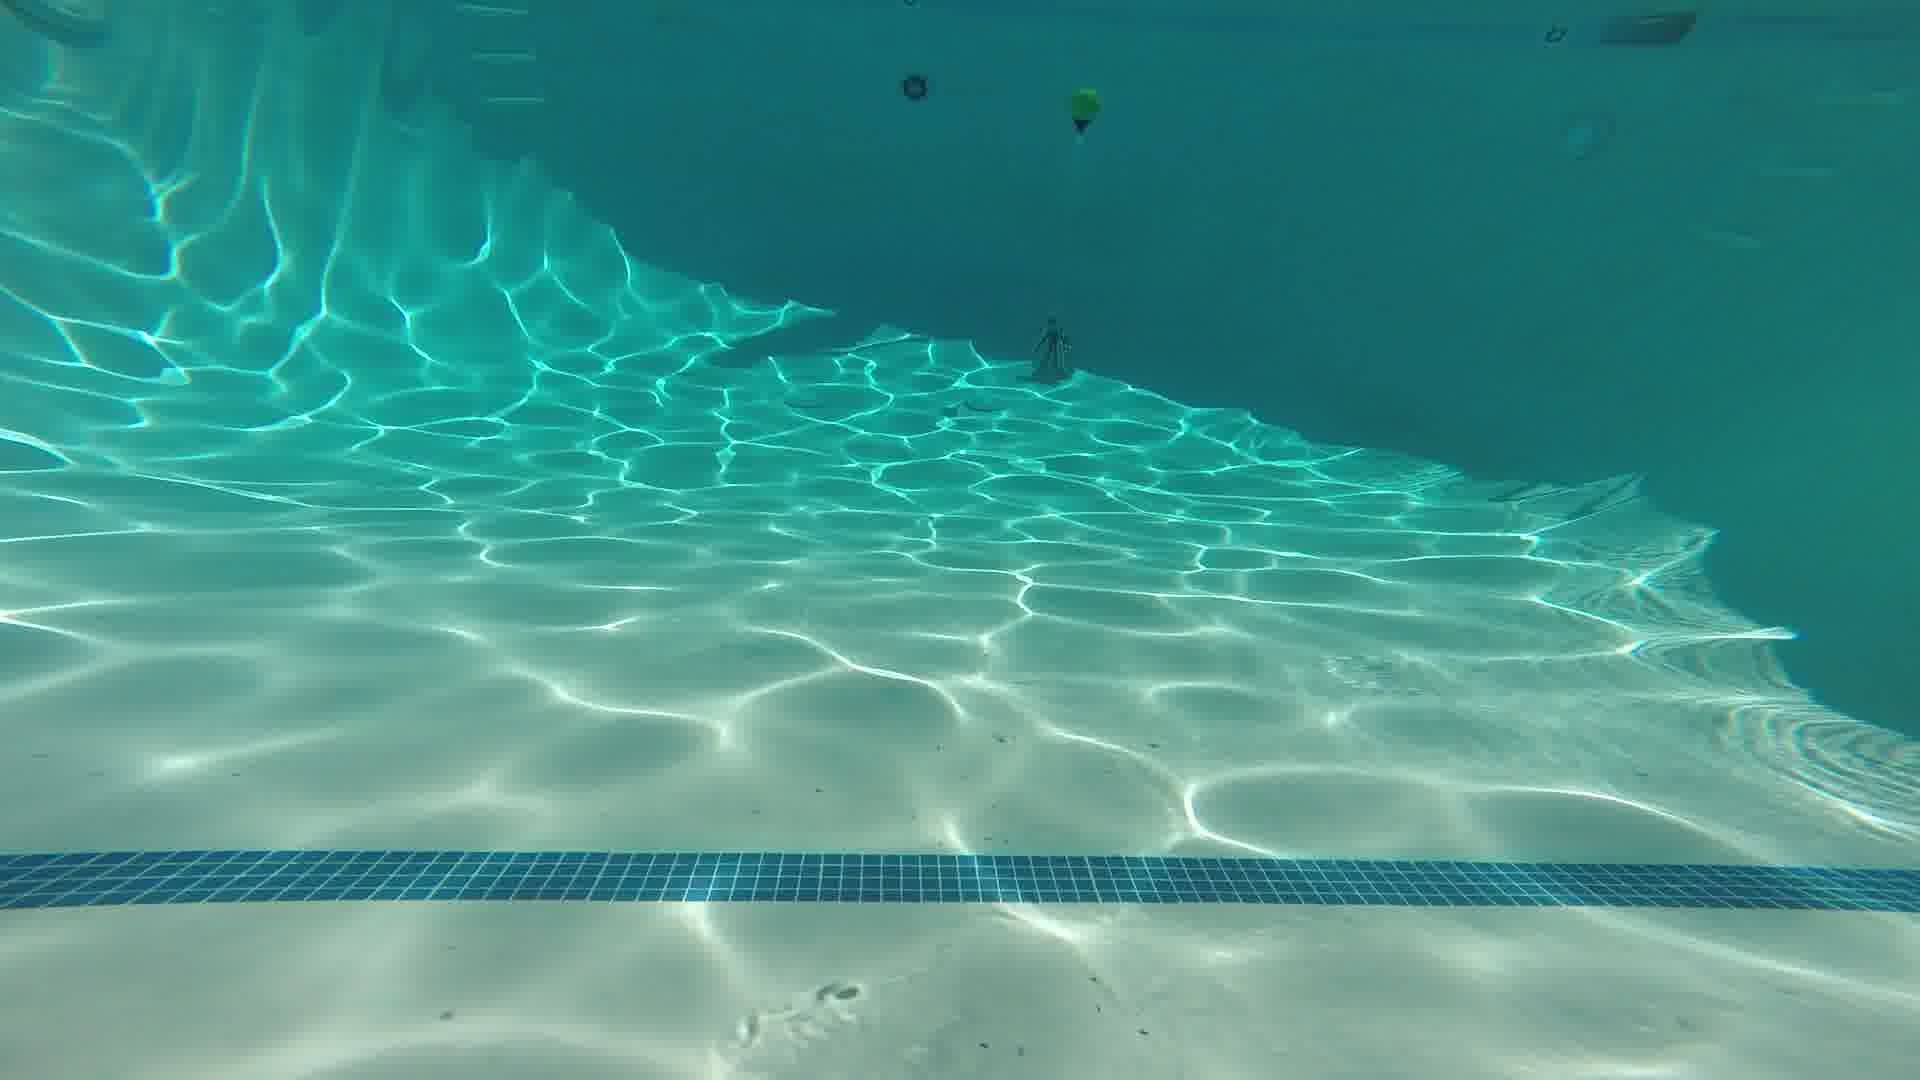yellow buoy: (1058, 65, 1127, 162)
